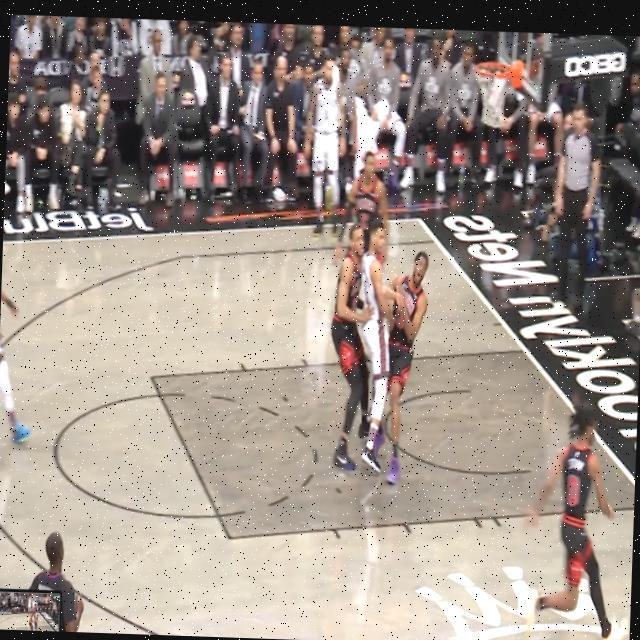foul: (302, 209, 452, 486)
